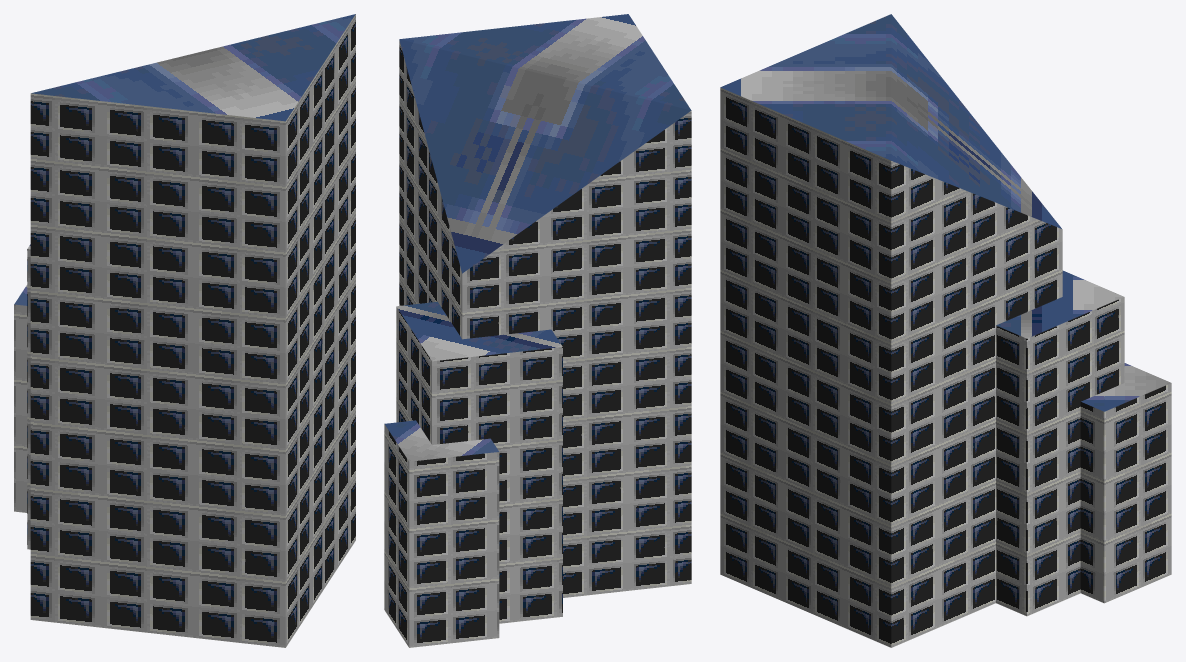
Rendered from ResearchFacilityX_Anim.glb.
The picture shows the model from 3 angles, left to right: view 1: azimuth 30°, elevation 25°; view 2: azimuth 150°, elevation 25°; view 3: azimuth 270°, elevation 25°; orthographic projection. The views are drawn at different scales.
Visible parts, largest first — view 1: ResearchFacilityX_Anim_part00; view 2: ResearchFacilityX_Anim_part00; view 3: ResearchFacilityX_Anim_part00.
Part boxes in pixels (x1,y1,x2,y2): ResearchFacilityX_Anim_part00: (14,14,355,647); ResearchFacilityX_Anim_part00: (384,14,691,647); ResearchFacilityX_Anim_part00: (720,14,1171,647).
Size of the model in its own units: 24.4 by 37.75 by 31.71.
2 materials, 2 textured.
